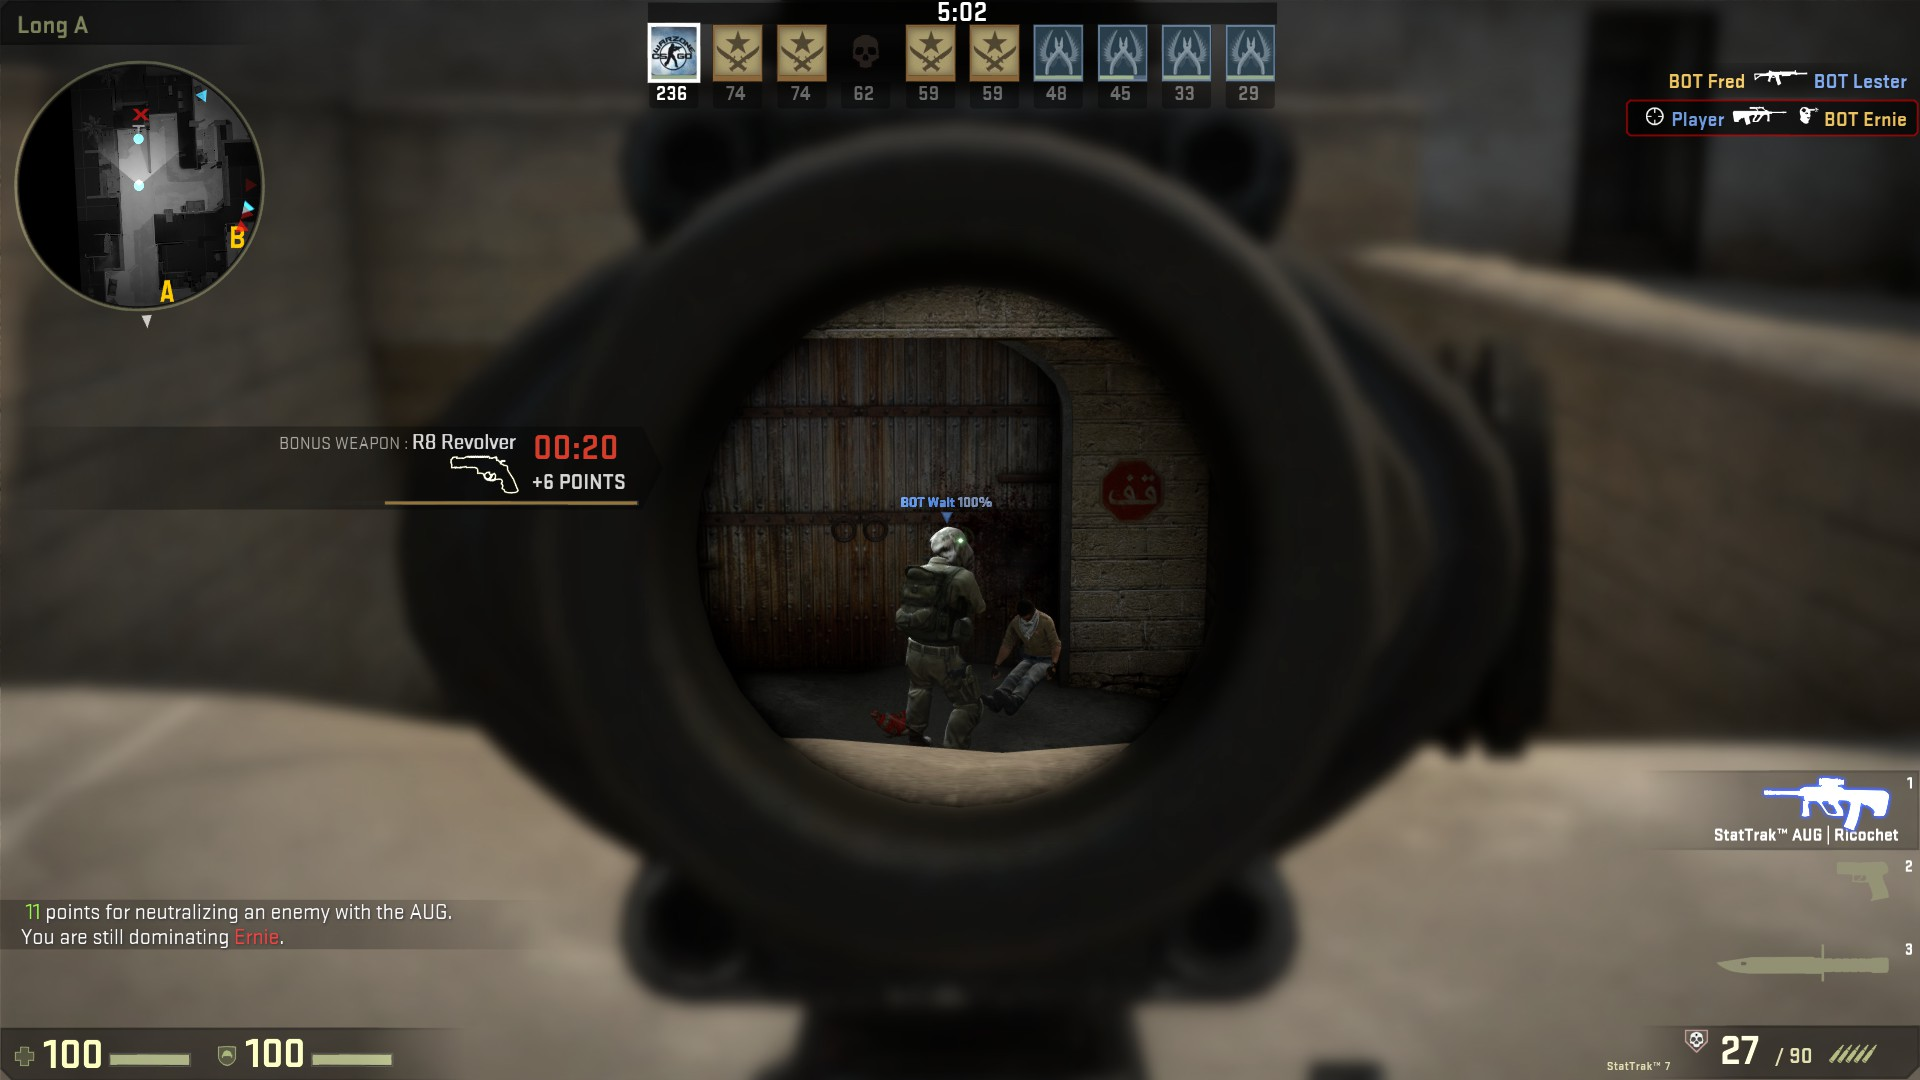c: (895, 525, 984, 756)
ch: (926, 526, 975, 571)
